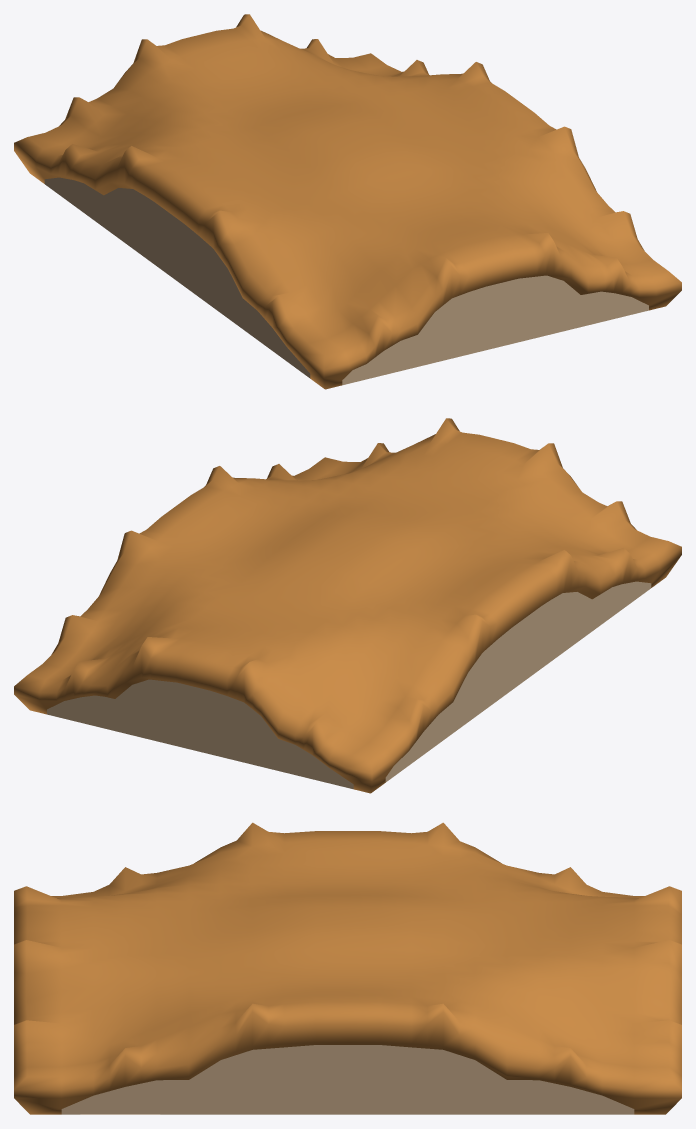
Rendered from Gaudi roof 6x4.fbx.
The picture shows the model from 3 angles, top to bottom: view 1: azimuth 30°, elevation 25°; view 2: azimuth 150°, elevation 25°; view 3: azimuth 270°, elevation 25°; orthographic projection. The views are drawn at different scales.
Visible parts, largest first — view 1: Gaudi Roof 1x2; view 2: Gaudi Roof 1x2; view 3: Gaudi Roof 1x2.
Part boxes in pixels (left/top/right/bottom): Gaudi Roof 1x2: left=14, top=14, right=681, bottom=389; Gaudi Roof 1x2: left=14, top=418, right=681, bottom=793; Gaudi Roof 1x2: left=14, top=822, right=681, bottom=1114.
Size of the model in its own units: 420 by 116 by 630.
